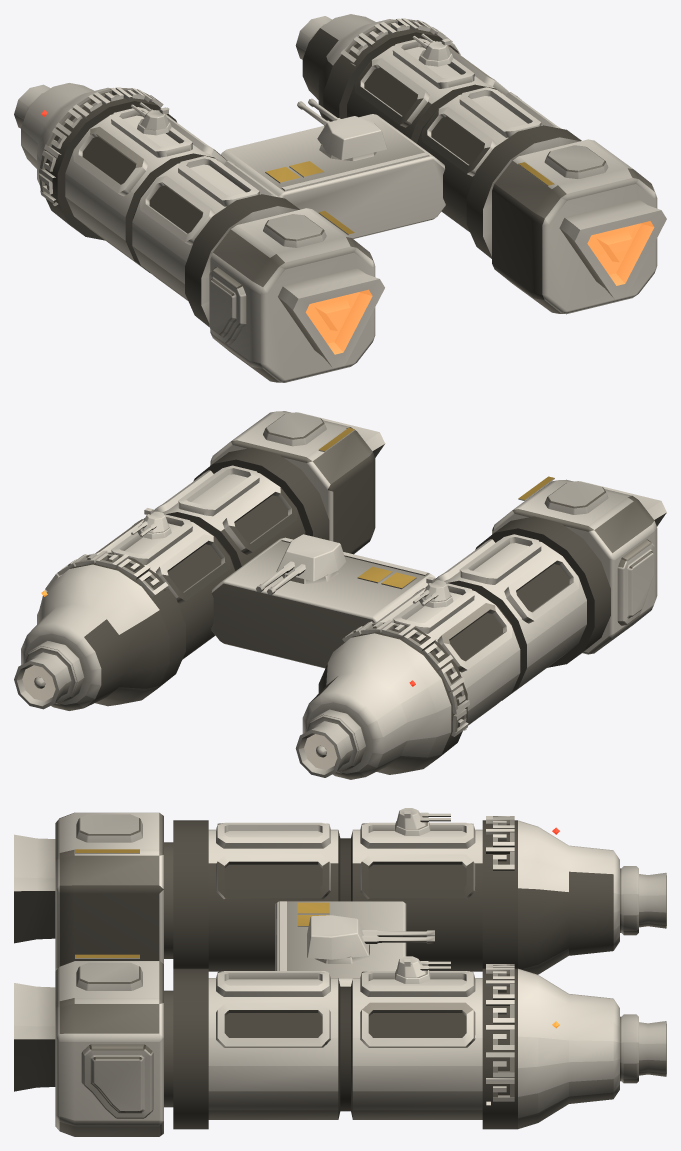
The model's file is plektor_corvette.glb.
3 renders of one model, top to bottom at view 1: azimuth 30°, elevation 25°; view 2: azimuth 150°, elevation 25°; view 3: azimuth 270°, elevation 25°, orthographic. The views are drawn at different scales.
Visible parts, largest first — view 1: hull, engines, pd_1, pd_0; view 2: hull, engines, pd_1, pd_0; view 3: hull, engines, pd_0, pd_1.
Boxes of the visible parts, x1=… form: hull: x1=21, y1=14, x2=657, y2=382; engines: x1=14, y1=16, x2=666, y2=368; pd_1: x1=412, y1=33, x2=453, y2=66; pd_0: x1=131, y1=102, x2=171, y2=135; hull: x1=21, y1=411, x2=657, y2=779; engines: x1=14, y1=412, x2=666, y2=777; pd_1: x1=131, y1=508, x2=171, y2=539; pd_0: x1=413, y1=576, x2=453, y2=607; hull: x1=55, y1=812, x2=619, y2=1136; engines: x1=14, y1=834, x2=666, y2=1091; pd_0: x1=395, y1=808, x2=450, y2=835; pd_1: x1=395, y1=956, x2=450, y2=983.
Bounding box in the file's own units: 29.91 × 10.33 × 37.1.
Materials: 10 (4 with a texture image).
